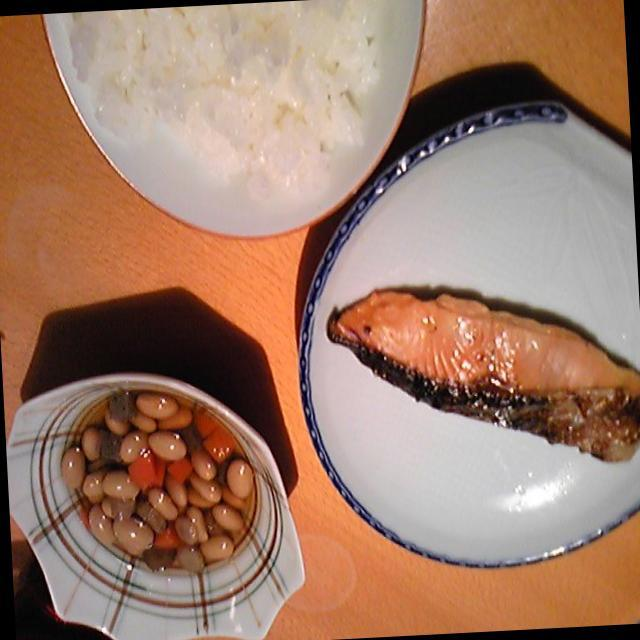Rice: (63, 1, 395, 216)
